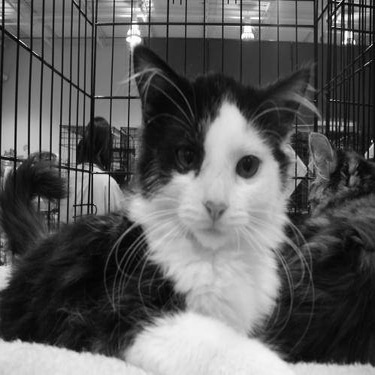cat: (5, 46, 359, 364)
